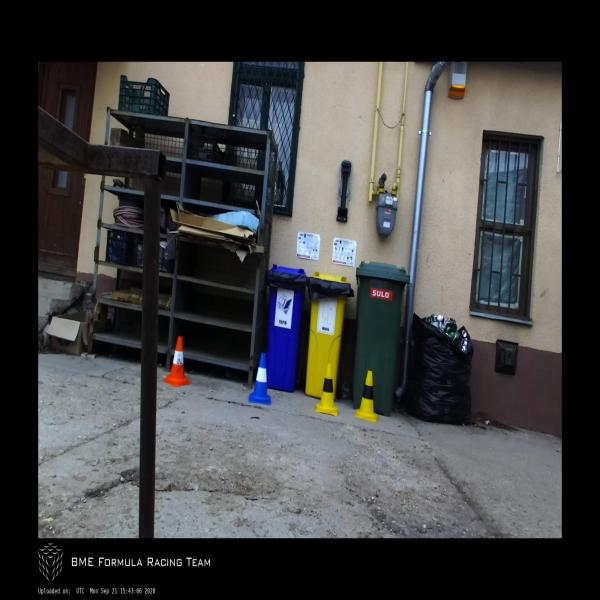blue_cone: (248, 353, 271, 405)
orange_cone: (163, 337, 190, 386)
yellow_cone: (354, 371, 378, 422), (315, 364, 338, 416)
